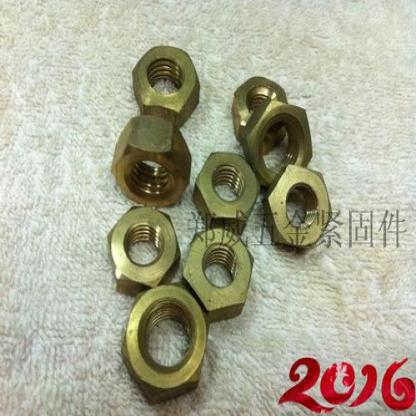FOD: (119, 282, 209, 408), (110, 118, 193, 206), (105, 203, 182, 297), (181, 226, 255, 323), (260, 162, 335, 252), (243, 101, 317, 190), (130, 43, 202, 122), (192, 146, 258, 232), (228, 74, 288, 145)
